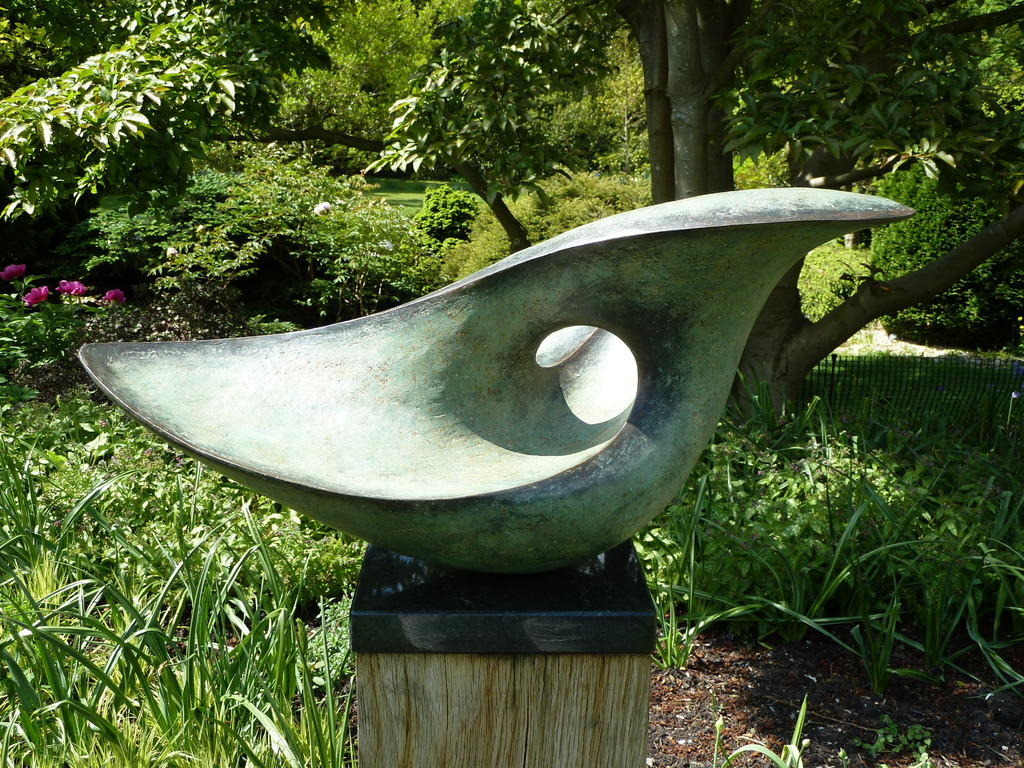Tree: (0, 0, 1024, 423), (361, 0, 1024, 421)
